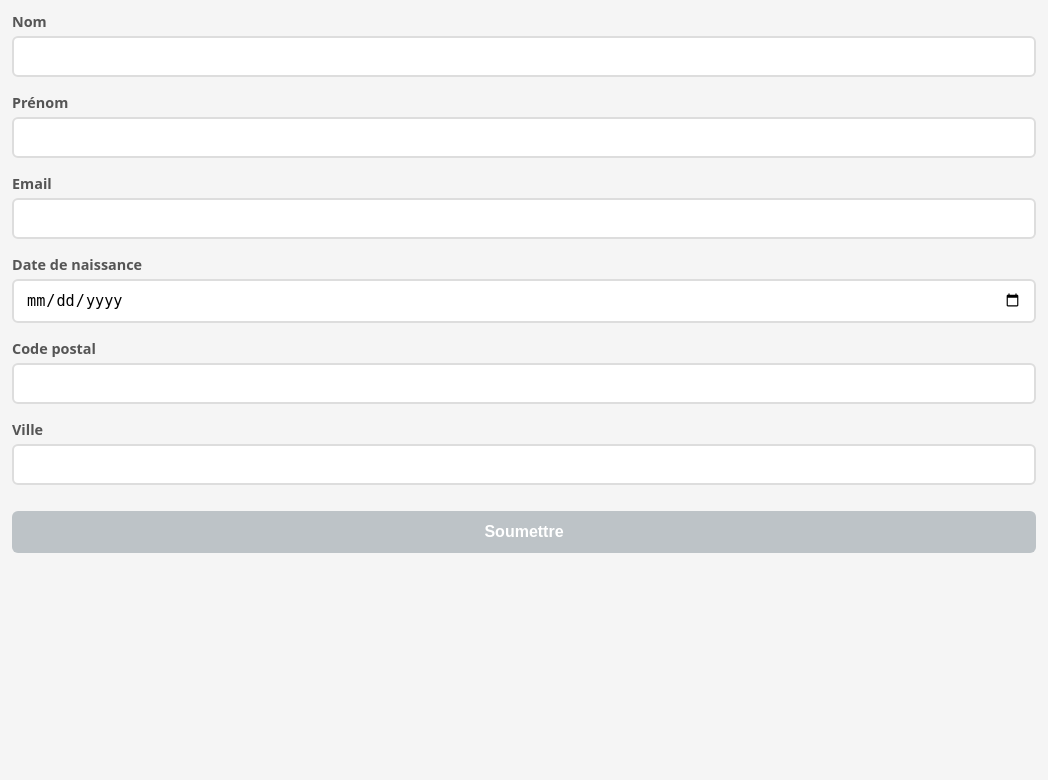
Test: UserForm - Tests d'intégration › Crash serveur - API 500 › doit afficher un message d'erreur serveur sans planter
This screenshot has width=1048, height=780.
Type "Dupont" into the field labelled "Nom" at (524, 56), box [12,36,1036,77]
Type "Jean" into the field labelled "Prénom" at (524, 138), box [12,117,1036,158]
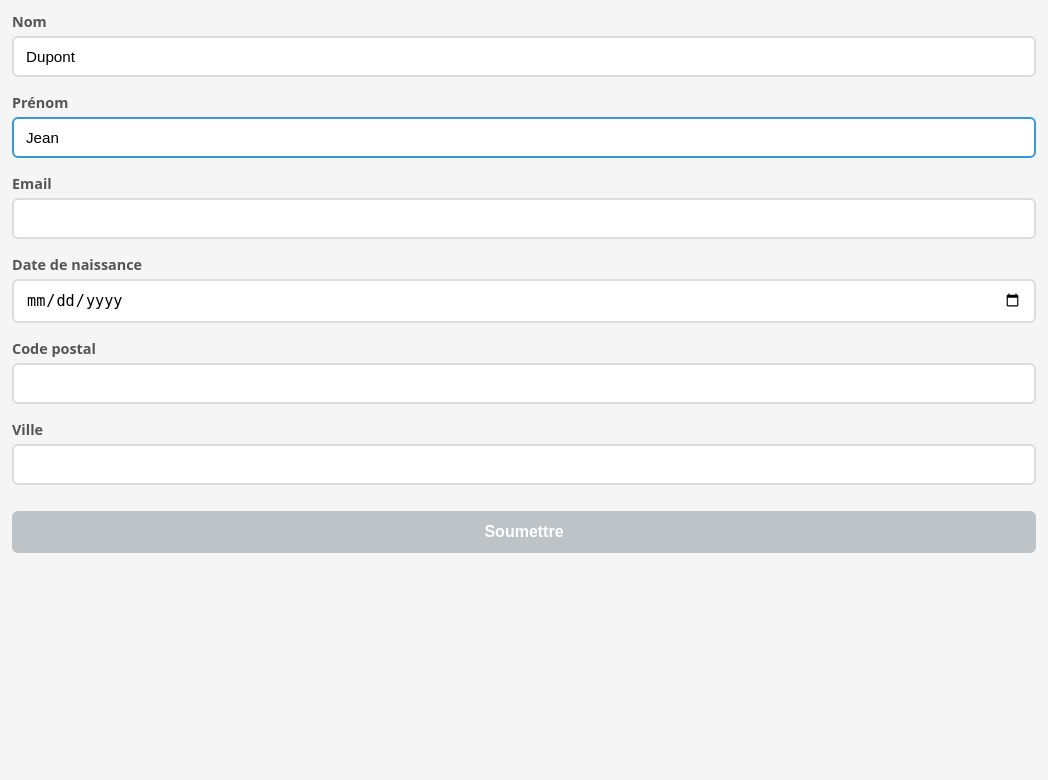
Type "jean@example.com" into the field labelled "Email" at (524, 218), box [12,198,1036,239]
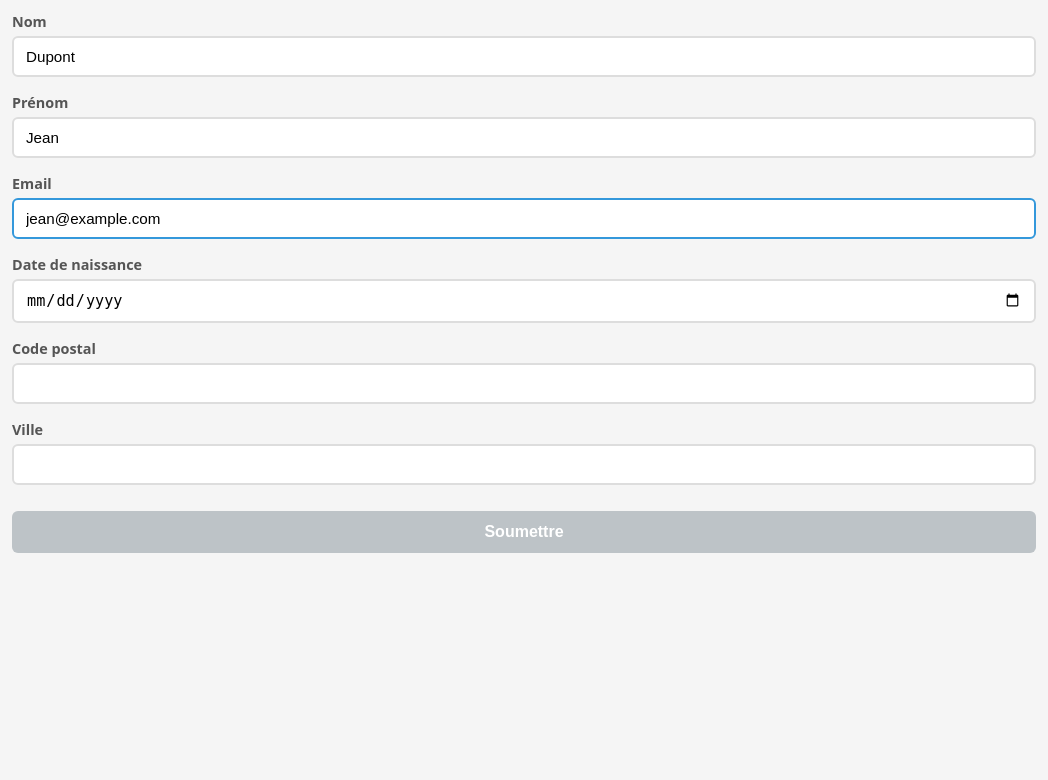
Type "1990-05-15" into the date field labelled "Date de naissance" at (524, 301), box [12,279,1036,323]
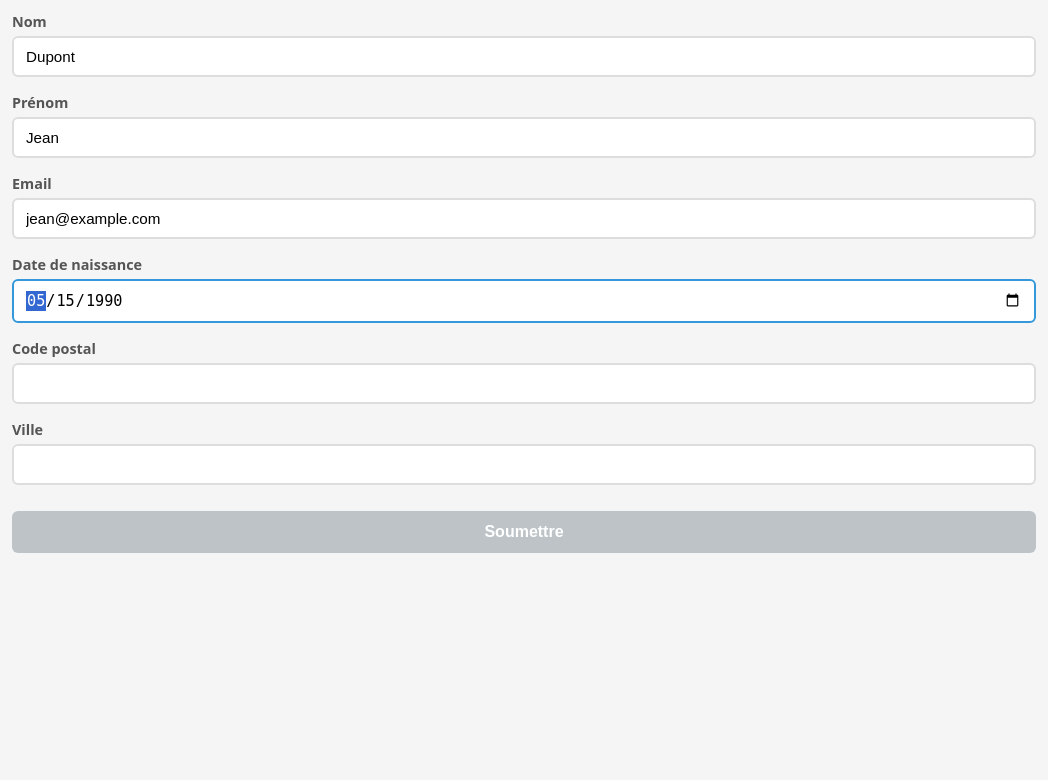
Type "75001" into the field labelled "Code postal" at (524, 384), box [12,363,1036,404]
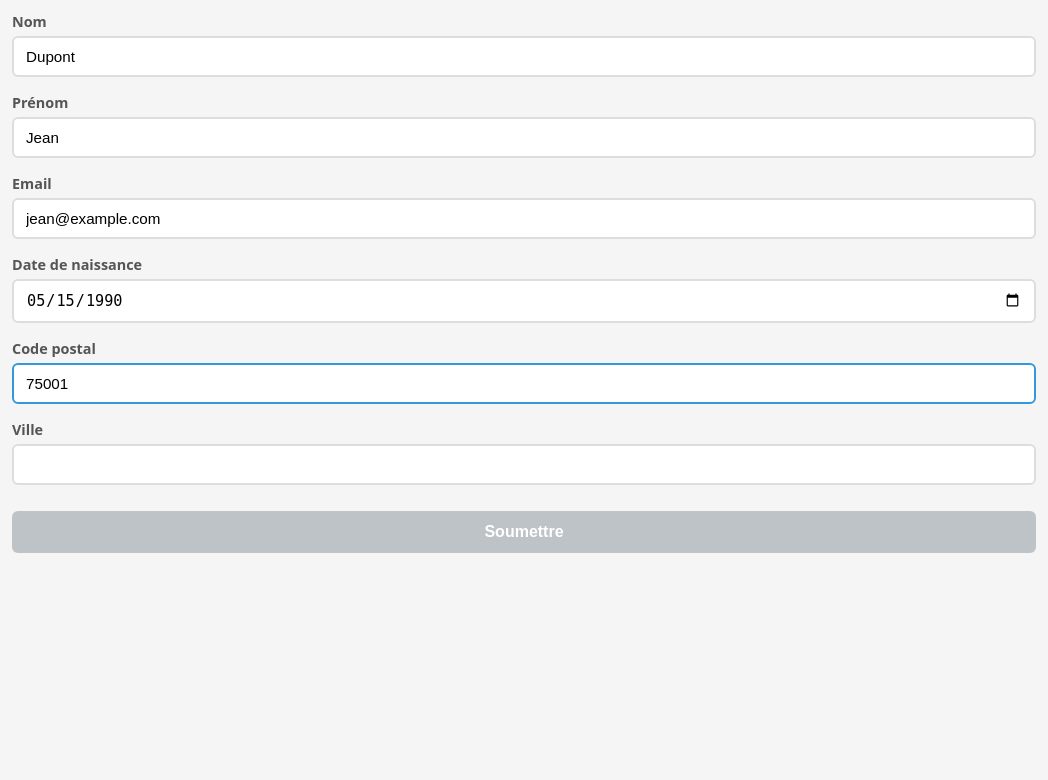
Type "Paris" into the field labelled "Ville" at (524, 464), box [12,444,1036,485]
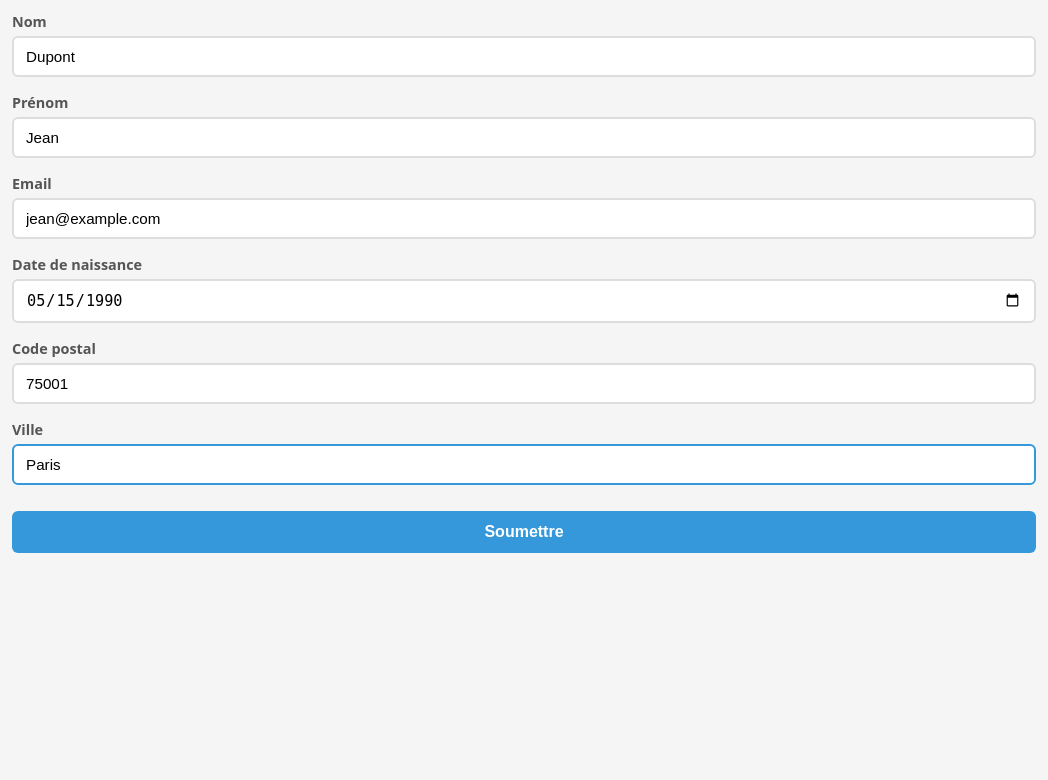
Click the button "Soumettre" at (524, 532), box [12,511,1036,553]
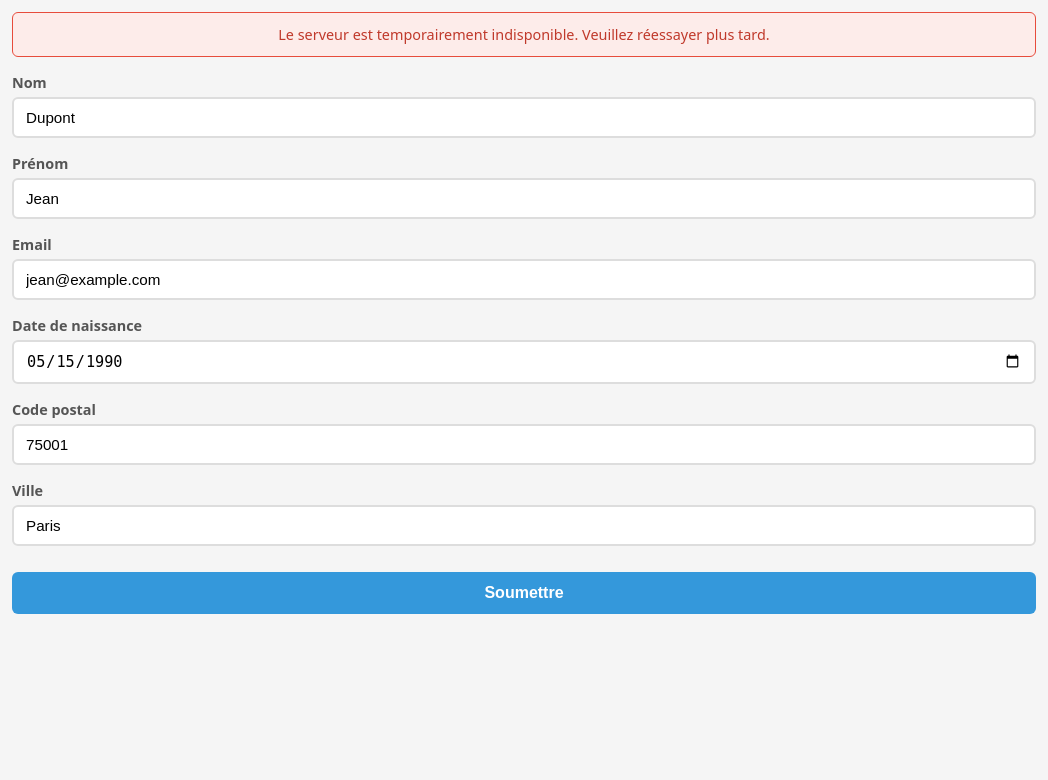
Check: the button "Soumettre" is enabled, box [12,572,1036,614]
Check: the message with test id "api-error" reads "Le serveur est temporairement indisponible. Veuillez réessayer plus tard.", box [278,25,770,44]
